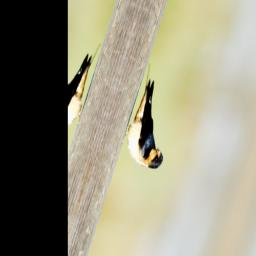Swallow: (115, 60, 189, 174)
